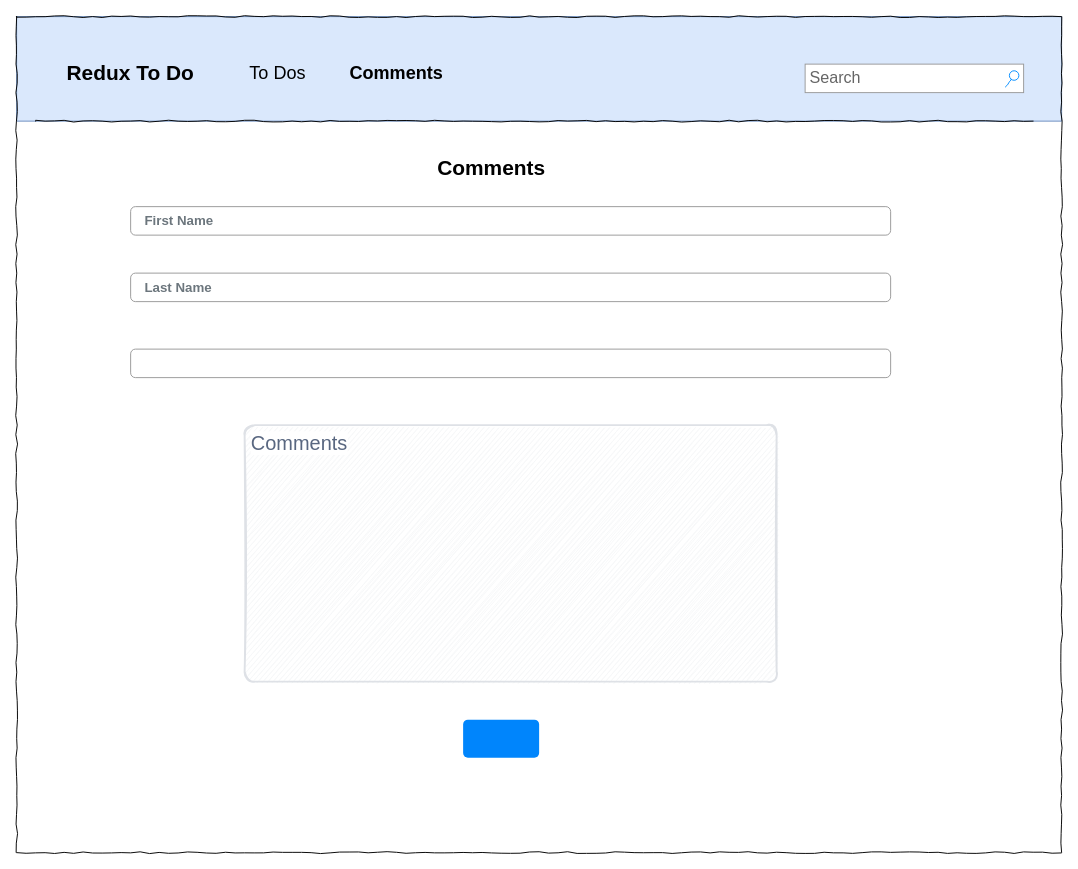
Image size: 1078x869. Some labels were removed from this diagram. The box of each missing label's shape, as (x1, y1, x2, y2) in pixels:
E mail: (130, 348, 891, 378)
Submit: (463, 719, 539, 757)
